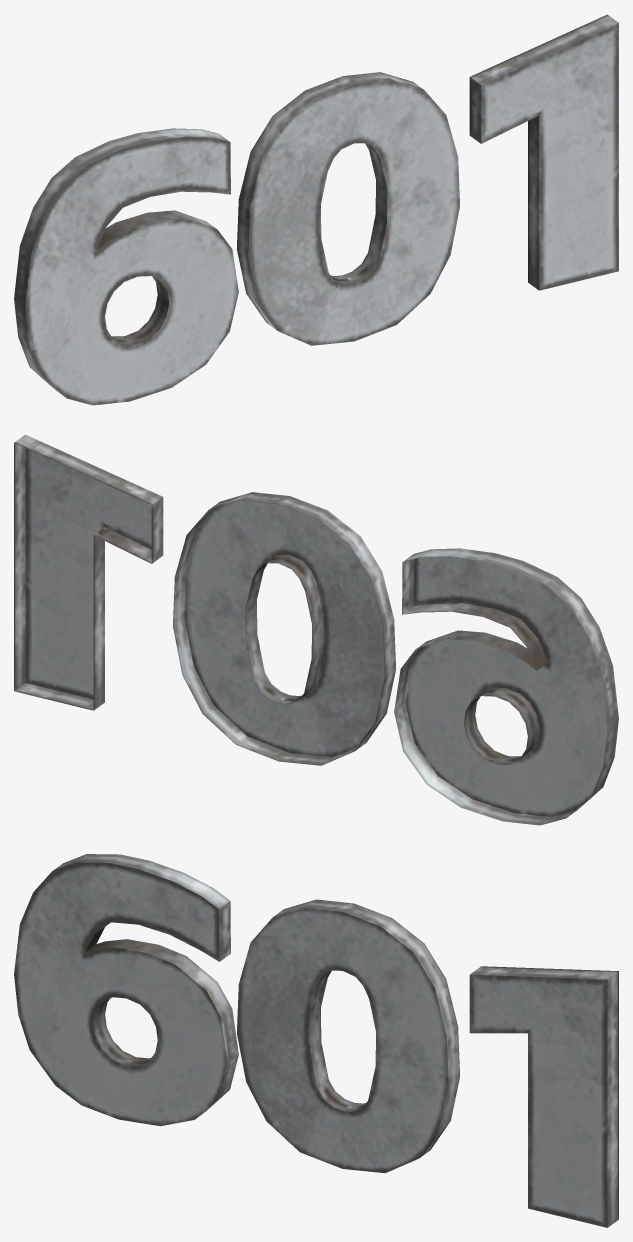
Rendered from categorySign601.FBX.
The picture shows the model from 3 angles, top to bottom: view 1: azimuth 30°, elevation 25°; view 2: azimuth 150°, elevation 25°; view 3: azimuth 330°, elevation 25°; orthographic projection.
Parts seen in each view (by area): view 1: SM_CategorySign601; view 2: SM_CategorySign601; view 3: SM_CategorySign601.
Boxes of the visible parts, x1,y1,x2,y2 form: SM_CategorySign601: [14, 14, 618, 405]; SM_CategorySign601: [14, 434, 618, 825]; SM_CategorySign601: [14, 854, 618, 1227].
Size of the model in its own units: 6 by 2.53 by 0.2.
1 material, 1 textured.
